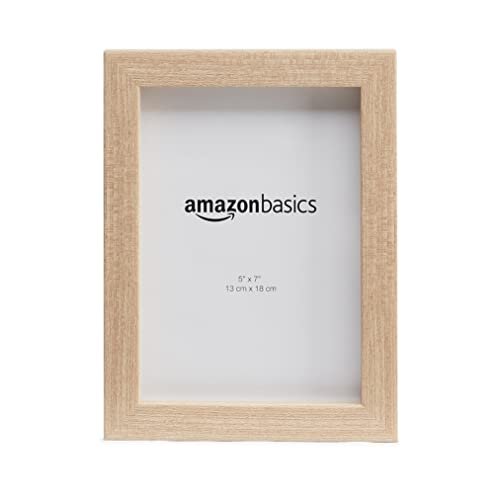amazonbasics: (184, 193, 317, 222)
